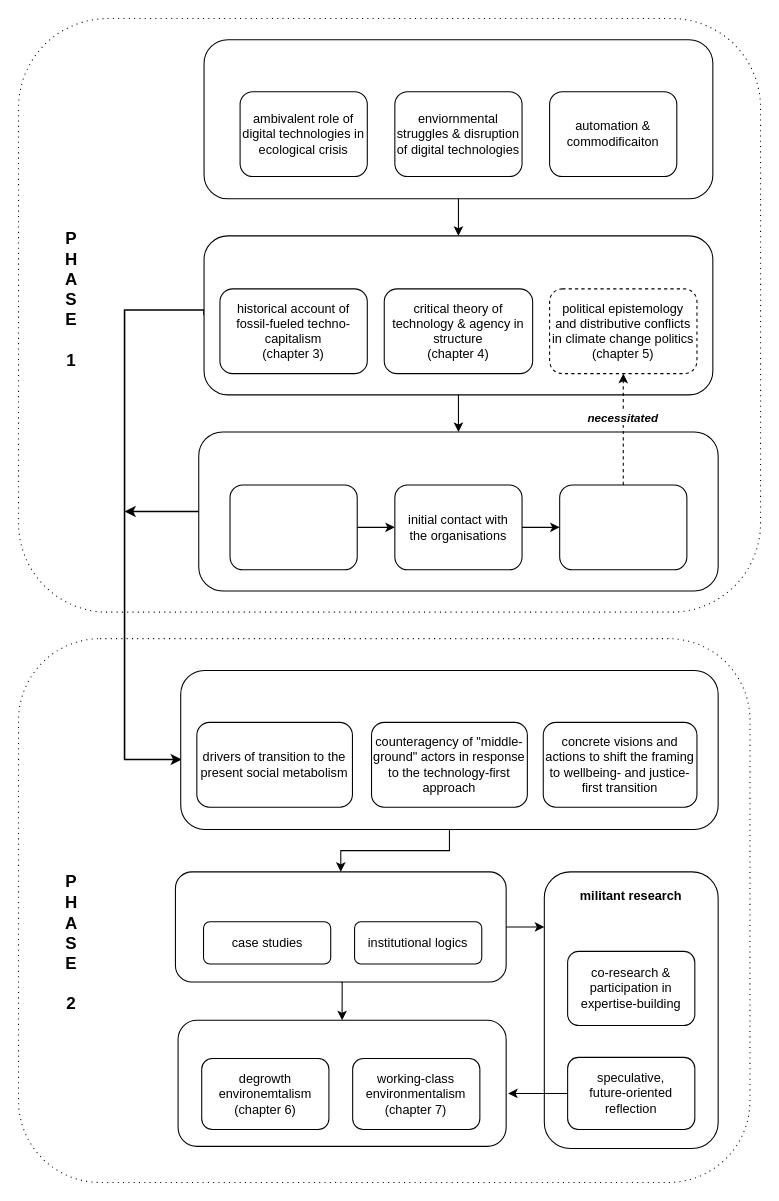
Image size: 779x1201. Some labels were removed from this diagram. The box of each missing label's shape, as (x1, y1, x2, y2) in pixels:
analytical framework / preliminary theoretical conceptualisation: (203, 235, 713, 395)
developed theoretical conceptualisation: (177, 1019, 506, 1146)
fieldwork: (174, 871, 506, 982)
initial fieldwork development: (198, 431, 718, 591)
initial research objectives: (203, 39, 713, 199)
methodology: (559, 484, 687, 570)
revised research objectives: (180, 669, 718, 829)
scoping organisations for case study candidates: (229, 484, 357, 570)
